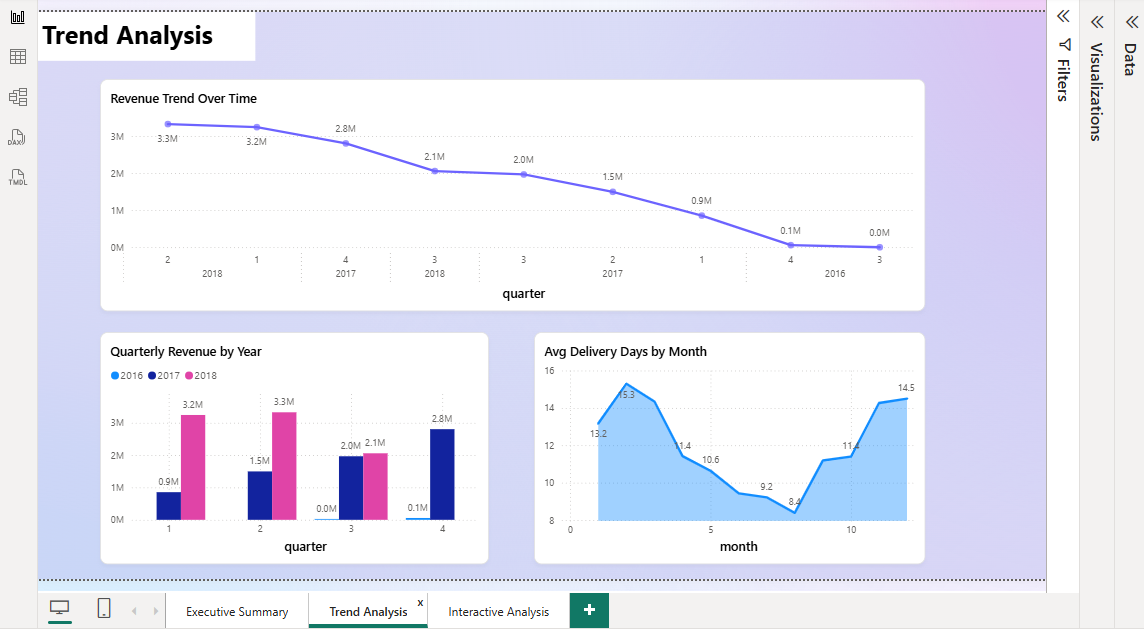

Layout of this report page (visuals, bound fields, positions):
{"tool":"powerbi","page":{"name":"Trend Analysis","canvas":[1280,720],"ordinal":1},"visuals":[{"type":"lineChart","title":"Revenue Trend Over Time","fields":{"Y":["DM_Sales_Revenue.Total Revenue"],"Category":["DM_Sales_Revenue.year Hierarchy.year","DM_Sales_Revenue.year Hierarchy.quarter","DM_Sales_Revenue.year Hierarchy.month"]},"box":[78.2,85.1,1048.4,295],"z":0},{"type":"textbox","box":[0,0,275.8,61.7],"z":1000},{"type":"clusteredColumnChart","title":"Quarterly Revenue by Year","fields":{"Category":["DM_Sales_Revenue.quarter"],"Y":["DM_Sales_Revenue.Total Revenue"],"Series":["DM_Sales_Revenue.year"]},"box":[78.2,406.2,494,295],"z":2000},{"type":"areaChart","title":"Avg Delivery Days by Month","fields":{"Category":["DM_Customer_Experience.month"],"Y":["DM_Customer_Experience.Average Delivery Duration"]},"box":[629.8,406.2,496.7,295],"z":3000}]}

Visuals, with their boxes on the page's 1280x720 design canvas (x1, y1, x2, y2). These are canvas units, not pixel positions in the 1144x629 screenshot, which may show the page scaled, cropped or inside an application window:
"Revenue Trend Over Time" lineChart: x1=78 y1=85 x2=1127 y2=380
textbox: x1=0 y1=0 x2=276 y2=62
"Quarterly Revenue by Year" clusteredColumnChart: x1=78 y1=406 x2=572 y2=701
"Avg Delivery Days by Month" areaChart: x1=630 y1=406 x2=1126 y2=701
